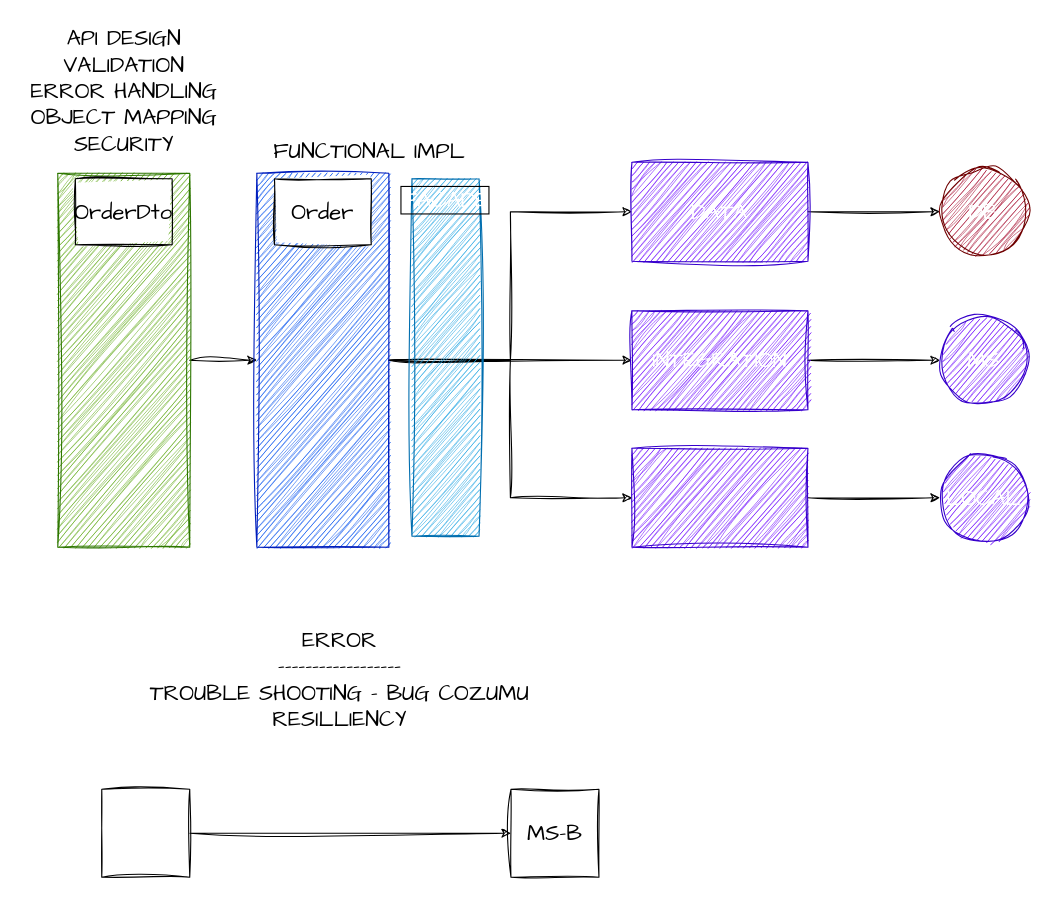
Image size: 1047x897. Some labels were removed from this diagram. Each missing label, with the box of its shape:
BUSINESS: (256, 172, 389, 547)
INPUT: (57, 172, 190, 547)
MS-A: (101, 788, 190, 877)
OPERATIONS: (631, 447, 808, 547)
